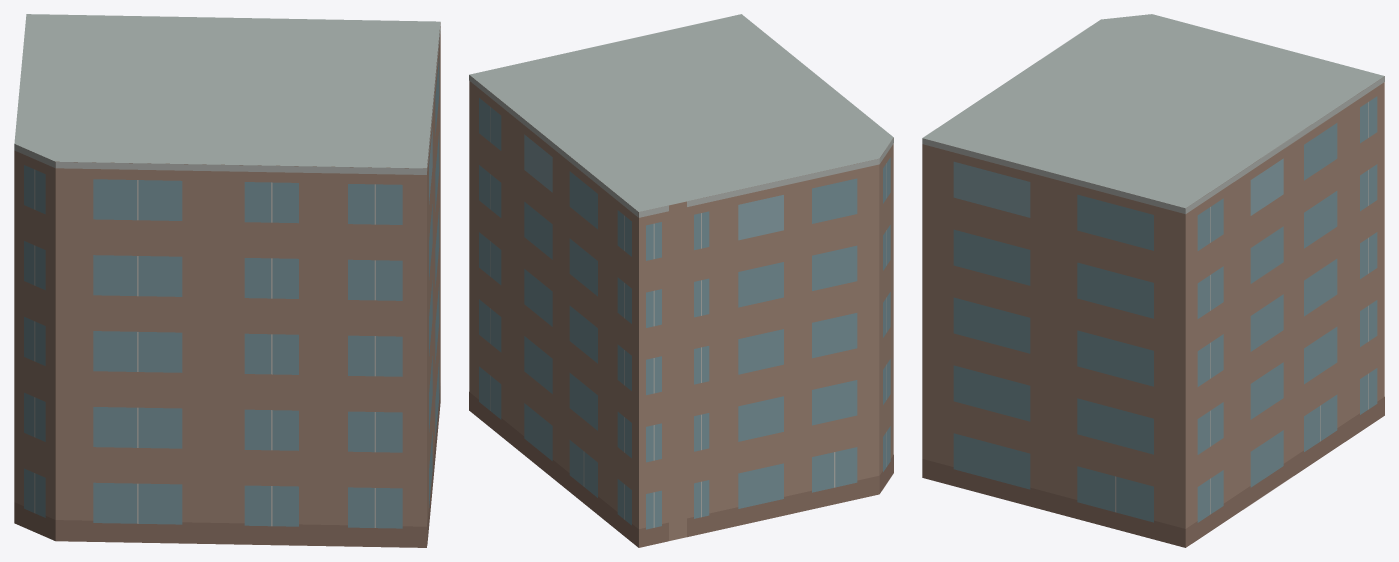
Rendered from survey-upis-32737745.glb.
3 renders of one model, left to right at view 1: azimuth 30°, elevation 25°; view 2: azimuth 150°, elevation 25°; view 3: azimuth 270°, elevation 25°, orthographic. The views are drawn at different scales.
Visible parts, largest first — view 1: survey-upis-32737745.tmp; view 2: survey-upis-32737745.tmp; view 3: survey-upis-32737745.tmp.
Part boxes in pixels (x1,y1,x2,y2): survey-upis-32737745.tmp: [14, 14, 440, 547]; survey-upis-32737745.tmp: [469, 14, 893, 547]; survey-upis-32737745.tmp: [922, 14, 1384, 547].
Bounding box in the file's own units: 17.19 × 14 × 17.29.
